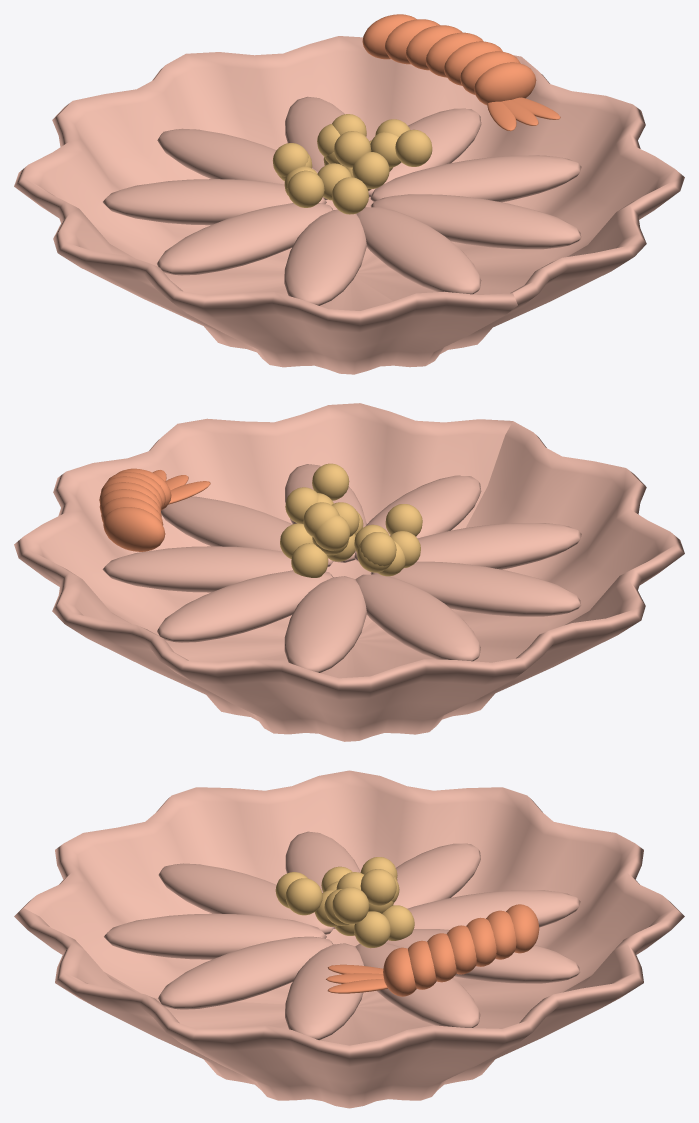
Rendered from 49-carpaccio.glb.
The picture shows the model from 3 angles, top to bottom: view 1: azimuth 30°, elevation 25°; view 2: azimuth 150°, elevation 25°; view 3: azimuth 270°, elevation 25°; orthographic projection.
Visible parts, largest first — view 1: 단새우 카르파초; view 2: 단새우 카르파초; view 3: 단새우 카르파초.
Part boxes in pixels (left/top/right/bottom): 단새우 카르파초: left=14, top=14, right=684, bottom=374; 단새우 카르파초: left=14, top=403, right=684, bottom=741; 단새우 카르파초: left=14, top=770, right=684, bottom=1108.
Size of the model in its own units: 1.8 by 0.5895 by 1.8.
